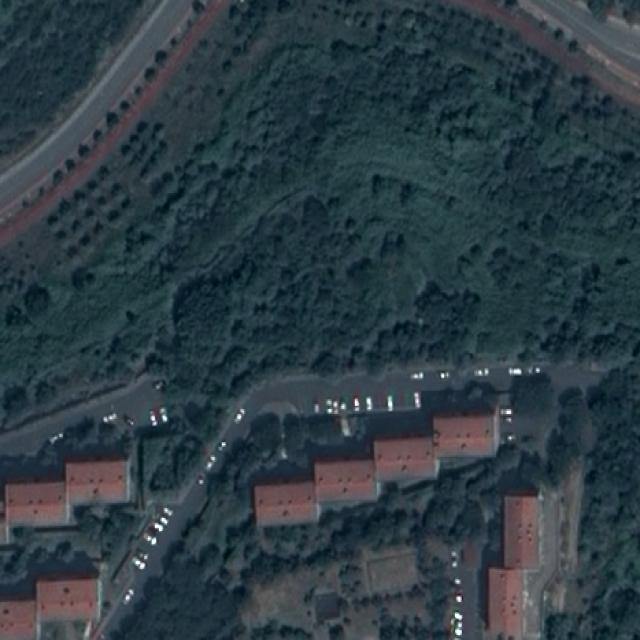Batiment: (434, 408, 499, 457), (67, 462, 129, 508), (314, 459, 376, 503), (36, 579, 98, 622), (376, 439, 439, 481), (254, 482, 314, 526), (504, 495, 539, 568), (6, 484, 66, 526), (490, 567, 522, 639), (0, 600, 35, 639)
